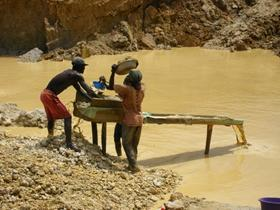MiningTool: (111, 58, 140, 75), (259, 197, 280, 209)
Person: (38, 56, 100, 152), (109, 66, 144, 172)
ProcessingEquipment: (73, 85, 245, 154)
